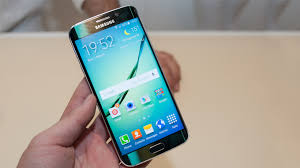samsung: (67, 2, 190, 166)
